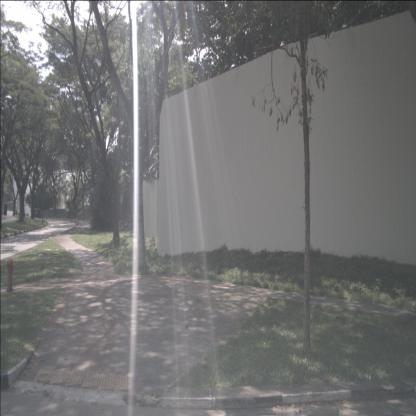vehicle-car: (32, 209, 42, 218)
